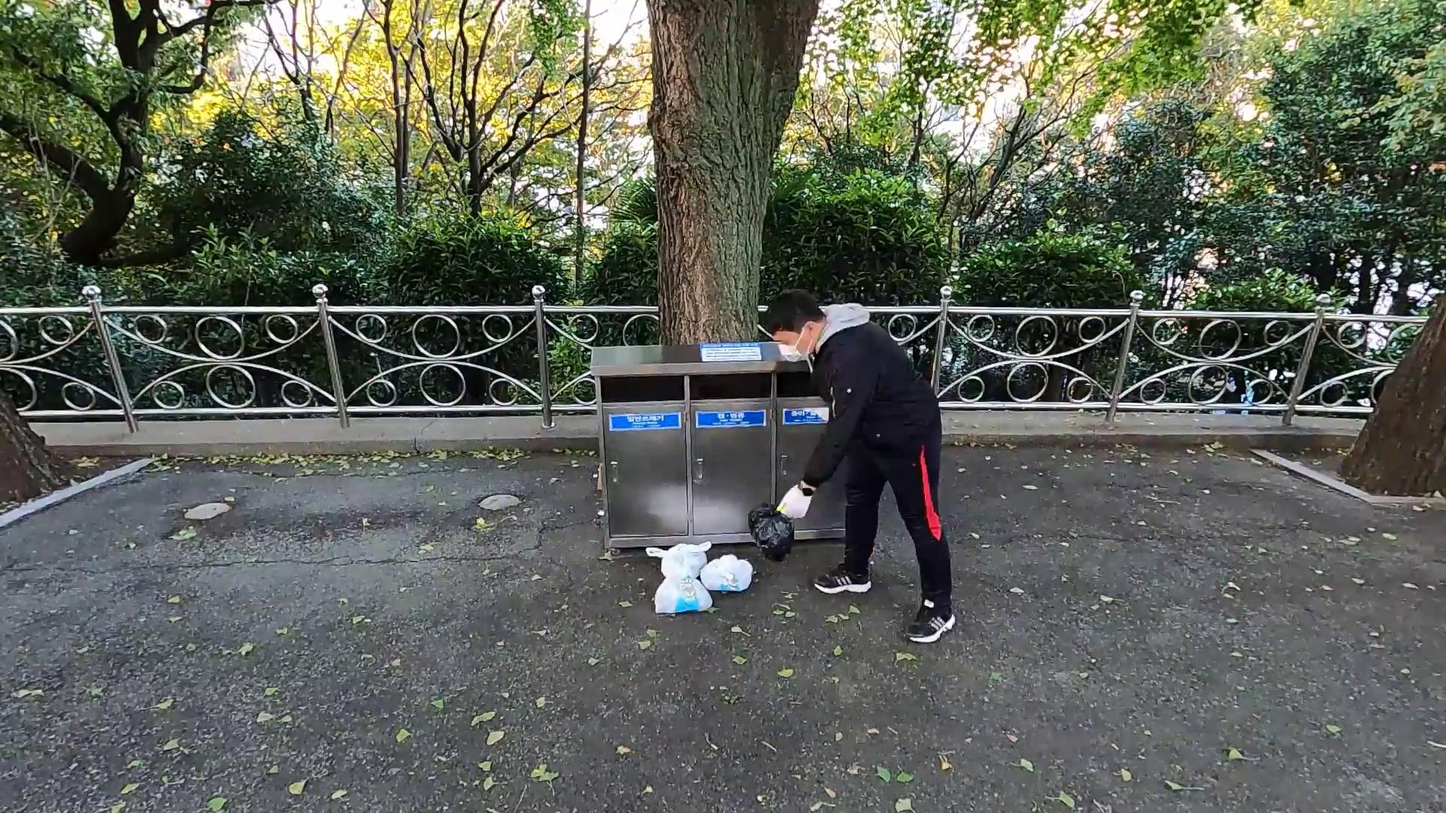person: (762, 291, 958, 651)
trash: (746, 504, 795, 562), (648, 539, 712, 583), (653, 574, 715, 619), (701, 553, 755, 596)
